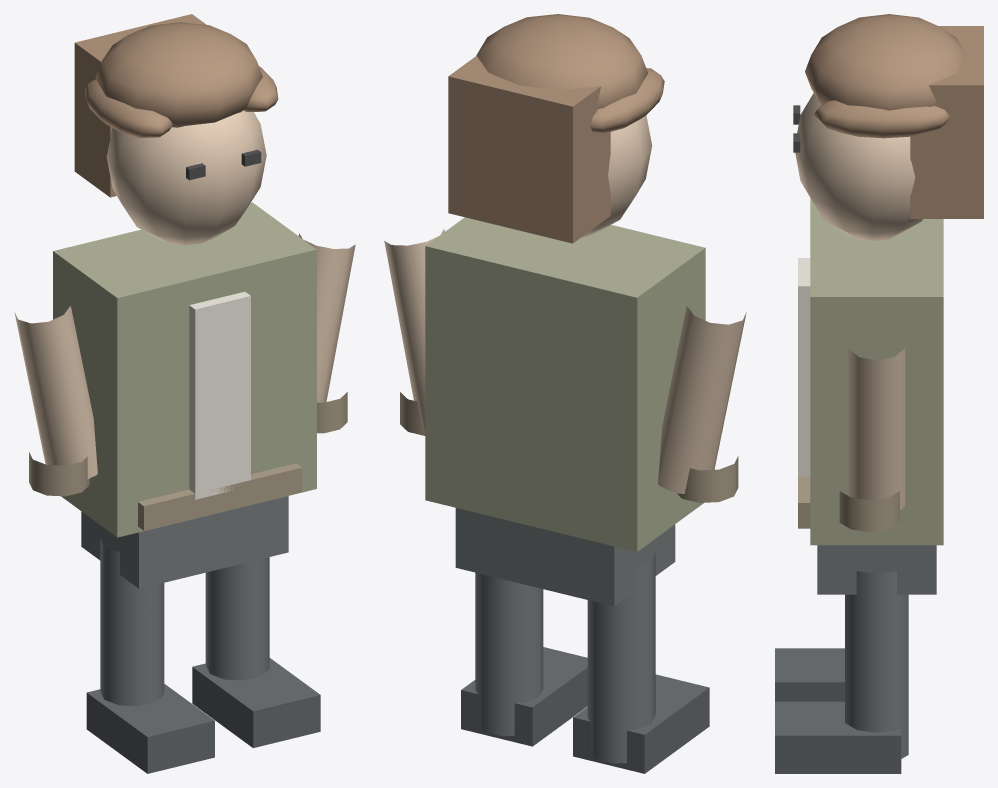
Rendered from bastian-rook.glb.
3 renders of one model, left to right at view 1: azimuth 30°, elevation 25°; view 2: azimuth 150°, elevation 25°; view 3: azimuth 270°, elevation 25°, orthographic. The views are drawn at different scales.
Parts seen in each view (by area): view 1: Torso, Head, HairCap, Vest, Pelvis, ArmL, LegL, FootR, FootL, LegR, HairBack, Belt (+5 smaller); view 2: Torso, HairBack, Pelvis, LegL, HairCap, ArmL, LegR, FootL, FootR, ArmR, Head, HairL (+2 smaller); view 3: Torso, HairCap, Head, HairBack, LegR, ArmR, FootR, Pelvis, FootL, HairR, Vest, CuffR (+1 smaller).
Part boxes in pixels (bbox=[...]): Torso: bbox=[53, 202, 316, 537]; Head: bbox=[106, 110, 266, 245]; HairCap: bbox=[95, 22, 262, 127]; Vest: bbox=[189, 291, 250, 499]; Pelvis: bbox=[81, 496, 288, 588]; ArmL: bbox=[14, 306, 97, 478]; LegL: bbox=[100, 539, 164, 706]; FootR: bbox=[192, 658, 320, 747]; FootL: bbox=[86, 684, 214, 773]; LegR: bbox=[205, 557, 269, 680]; HairBack: bbox=[74, 14, 206, 197]; Belt: bbox=[138, 463, 302, 530]; Torso: bbox=[425, 217, 705, 551]; HairBack: bbox=[448, 56, 610, 243]; Pelvis: bbox=[455, 508, 675, 606]; LegL: bbox=[587, 553, 655, 763]; HairCap: bbox=[476, 14, 647, 108]; ArmL: bbox=[658, 306, 746, 493]; LegR: bbox=[475, 572, 543, 736]; FootL: bbox=[573, 674, 709, 773]; FootR: bbox=[461, 647, 587, 746]; ArmR: bbox=[384, 229, 444, 431]; Head: bbox=[581, 115, 652, 237]; HairL: bbox=[590, 68, 664, 132]; Torso: bbox=[810, 198, 943, 545]; HairCap: bbox=[805, 14, 967, 110]; Head: bbox=[795, 93, 922, 240]; HairBack: bbox=[910, 26, 983, 218]; LegR: bbox=[845, 571, 908, 758]; ArmR: bbox=[848, 348, 905, 510]; FootR: bbox=[775, 701, 901, 773]; Pelvis: bbox=[817, 545, 936, 594]; FootL: bbox=[775, 648, 844, 701]; HairR: bbox=[813, 100, 950, 138]; Vest: bbox=[798, 258, 810, 476]; CuffR: bbox=[839, 491, 899, 531].
Bounding box in the file's own units: 1.14 × 2.21 × 0.595.
